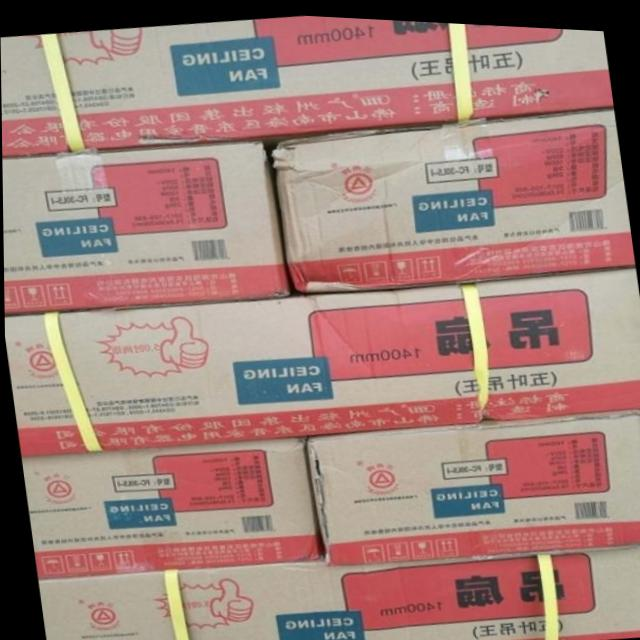box: (4, 261, 640, 456), (0, 13, 613, 158), (266, 100, 635, 293), (37, 536, 640, 640), (302, 402, 640, 562), (2, 135, 288, 316), (21, 434, 317, 579)
